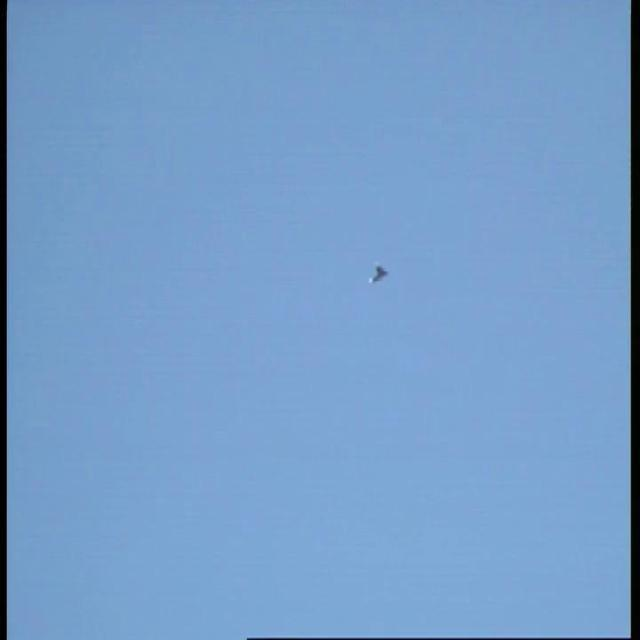drone: (365, 256, 392, 292)
